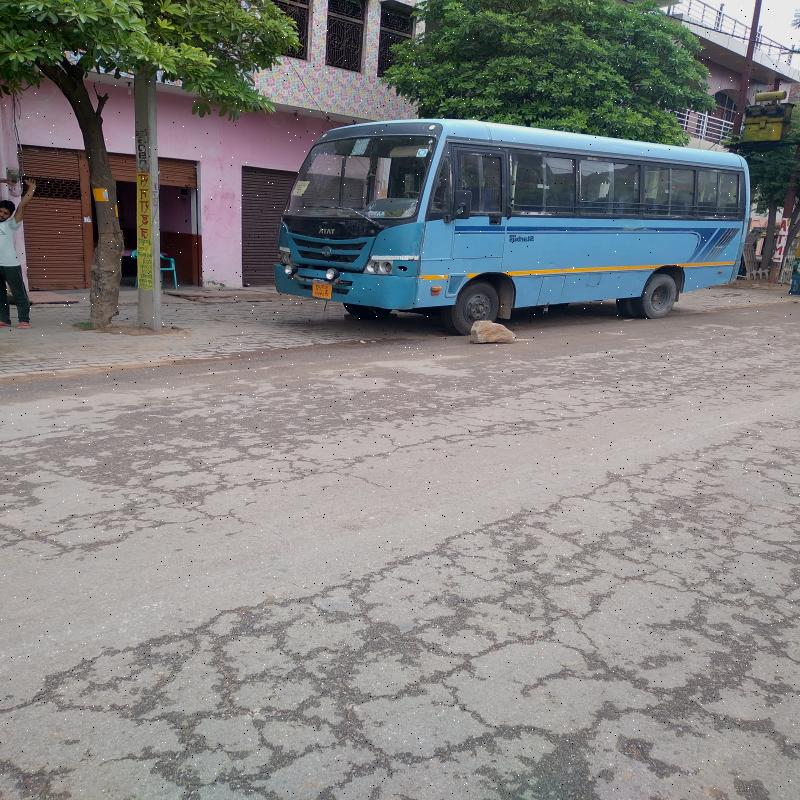bus: (268, 119, 745, 330)
